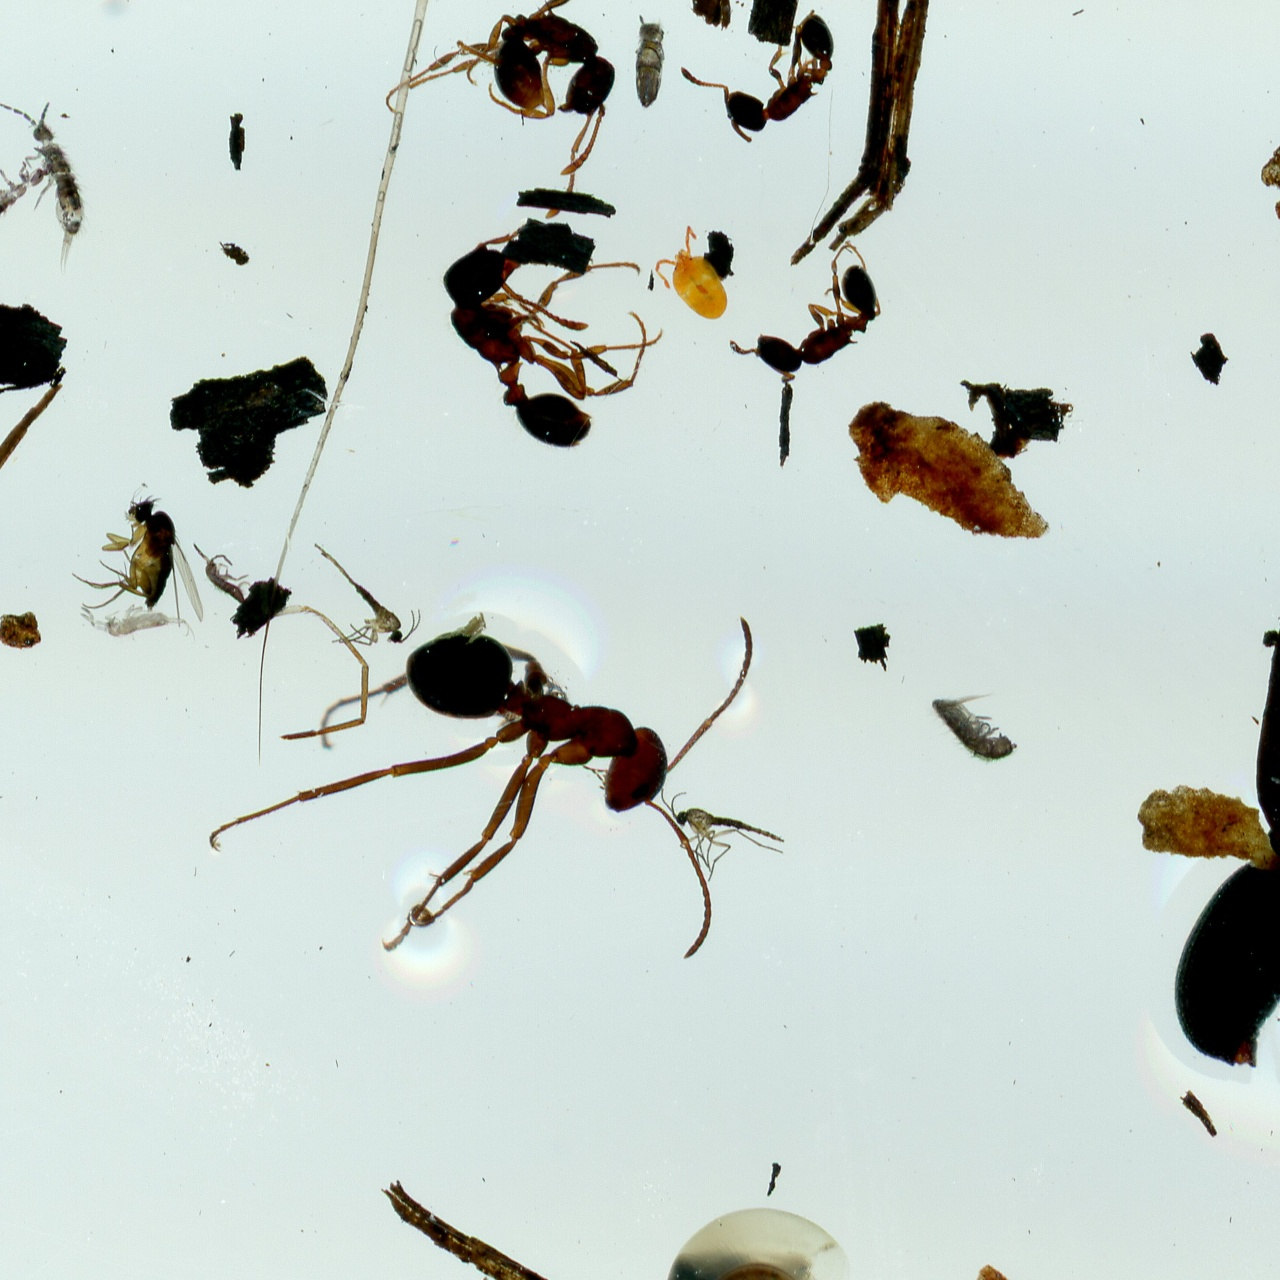arthropod: (207, 612, 754, 960), (1126, 689, 1280, 1148), (437, 225, 668, 452), (384, 0, 617, 195), (722, 232, 909, 411), (670, 0, 865, 159), (68, 479, 207, 630), (0, 83, 105, 278), (662, 1207, 852, 1280), (655, 785, 787, 885), (641, 219, 753, 336), (311, 538, 422, 646), (0, 139, 65, 264), (180, 524, 267, 617), (928, 689, 1020, 763), (78, 599, 200, 648), (632, 11, 668, 111)
